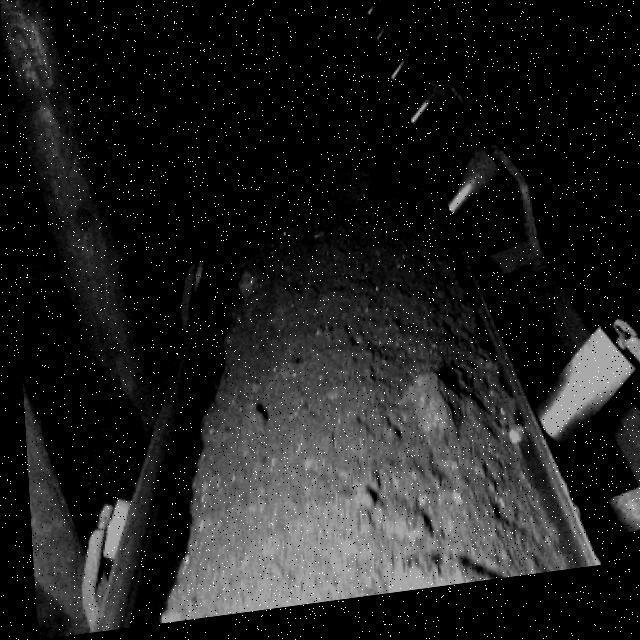large_sized_coal: (387, 381, 454, 459), (381, 567, 490, 603), (326, 162, 389, 213)
